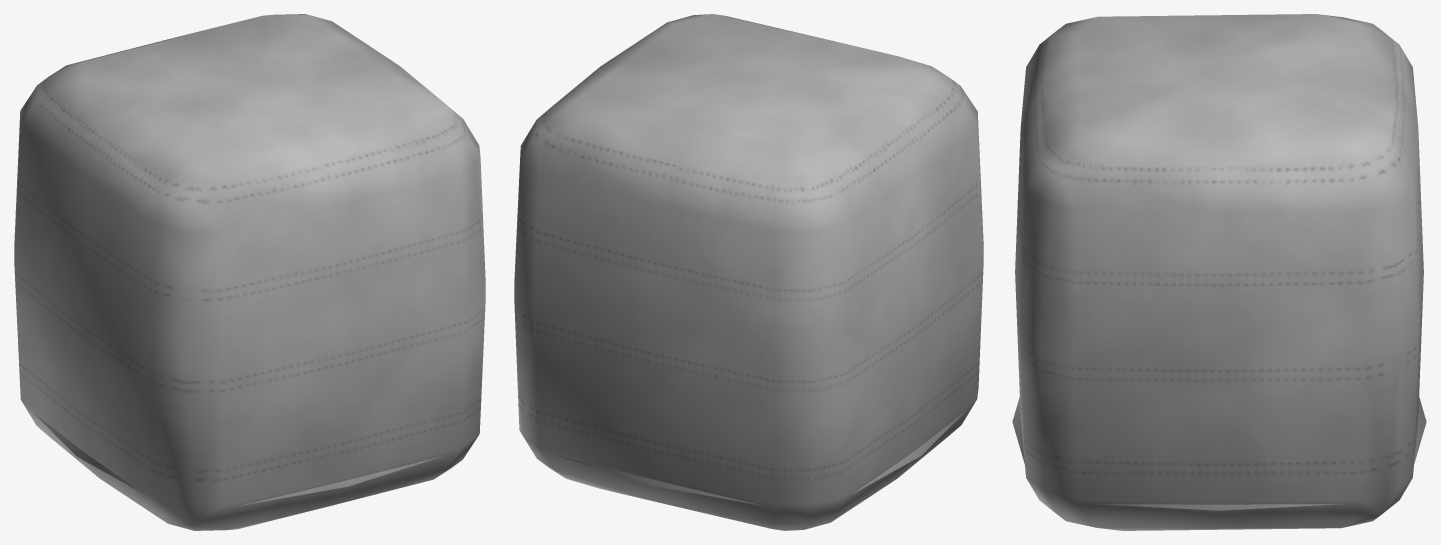
Rendered from LeftLowerLeg_C1.fbx.
The picture shows the model from 3 angles, left to right: view 1: azimuth 30°, elevation 25°; view 2: azimuth 150°, elevation 25°; view 3: azimuth 270°, elevation 25°; orthographic projection. The views are drawn at different scales.
Parts seen in each view (by area): view 1: Civ_Jogging_LeftLowerLeg_C1; view 2: Civ_Jogging_LeftLowerLeg_C1; view 3: Civ_Jogging_LeftLowerLeg_C1.
Part boxes in pixels (box(x1,y1,x2,y2)): Civ_Jogging_LeftLowerLeg_C1: box(14, 14, 485, 530); Civ_Jogging_LeftLowerLeg_C1: box(514, 14, 983, 530); Civ_Jogging_LeftLowerLeg_C1: box(1012, 14, 1426, 530).
Bounding box in the file's own units: 1.29 × 1.37 × 1.28.
